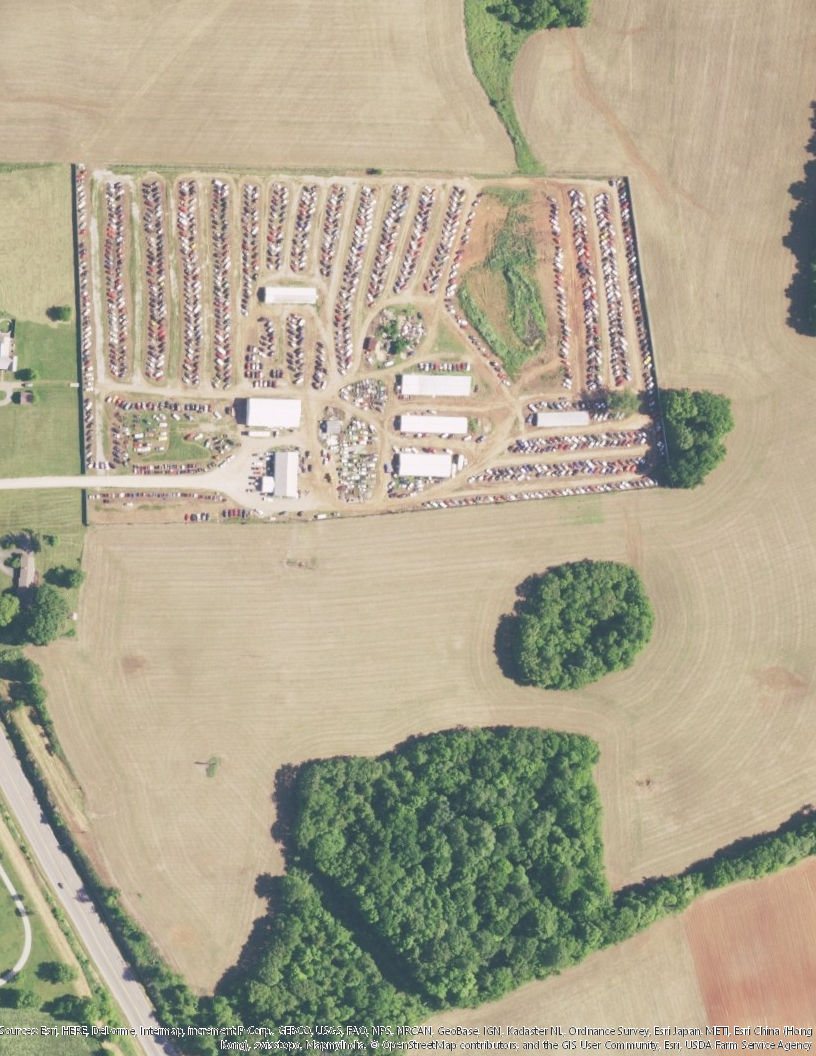cafo: (239, 396, 307, 433), (399, 372, 474, 401), (391, 451, 458, 482), (402, 412, 473, 437), (258, 286, 324, 305), (534, 407, 591, 427)
